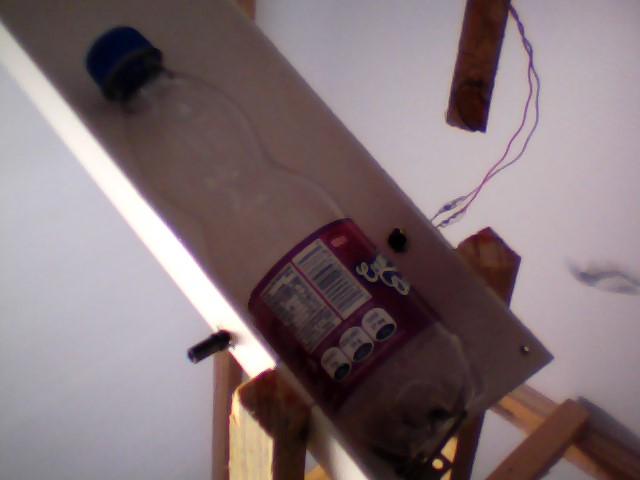plastico: (76, 21, 497, 478)
